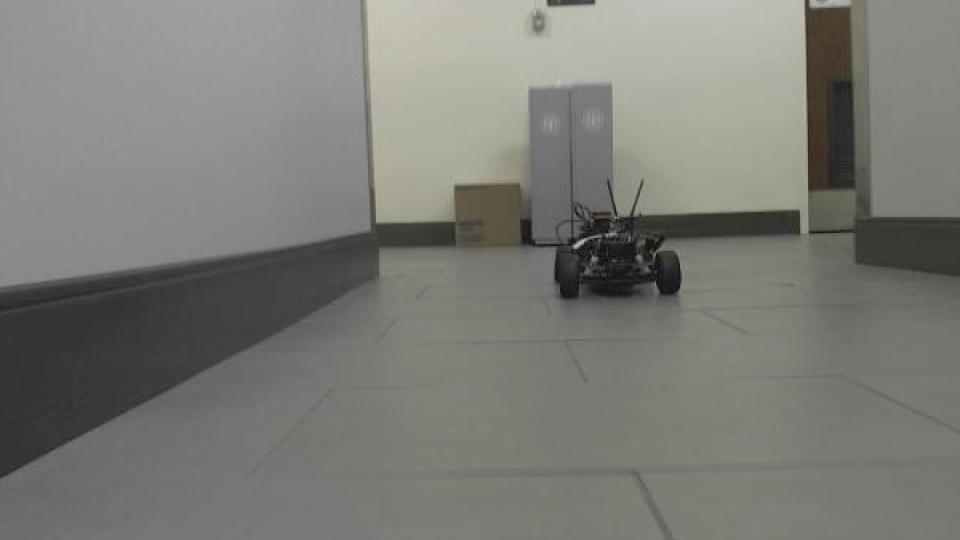car: (549, 174, 685, 302)
